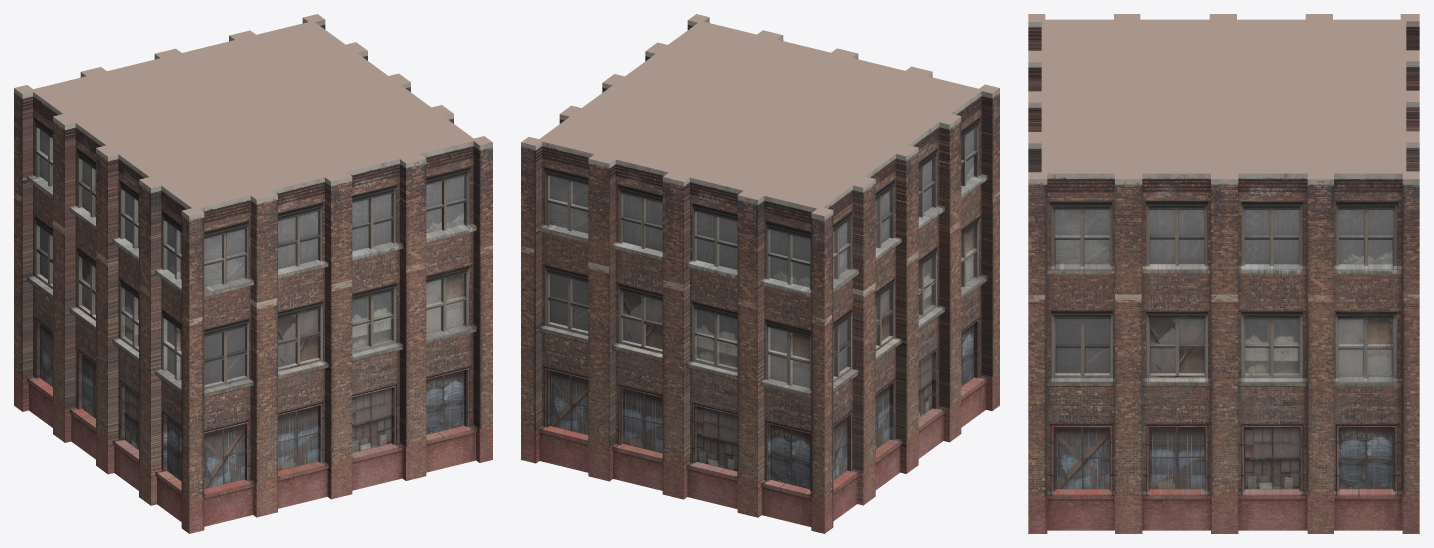
File: building1.fbx
3 views of the same model, side by side, from view 1: azimuth 30°, elevation 25°; view 2: azimuth 150°, elevation 25°; view 3: azimuth 270°, elevation 25° (orthographic). The views are drawn at different scales.
Parts seen in each view (by area): view 1: Plane.003; view 2: Plane.003; view 3: Plane.003.
Part boxes in pixels (x1,y1,x2,y2): Plane.003: (14, 14, 492, 533); Plane.003: (521, 14, 999, 533); Plane.003: (1028, 14, 1419, 533).
Bounding box in the file's own units: 1001 × 1001 × 1001.
